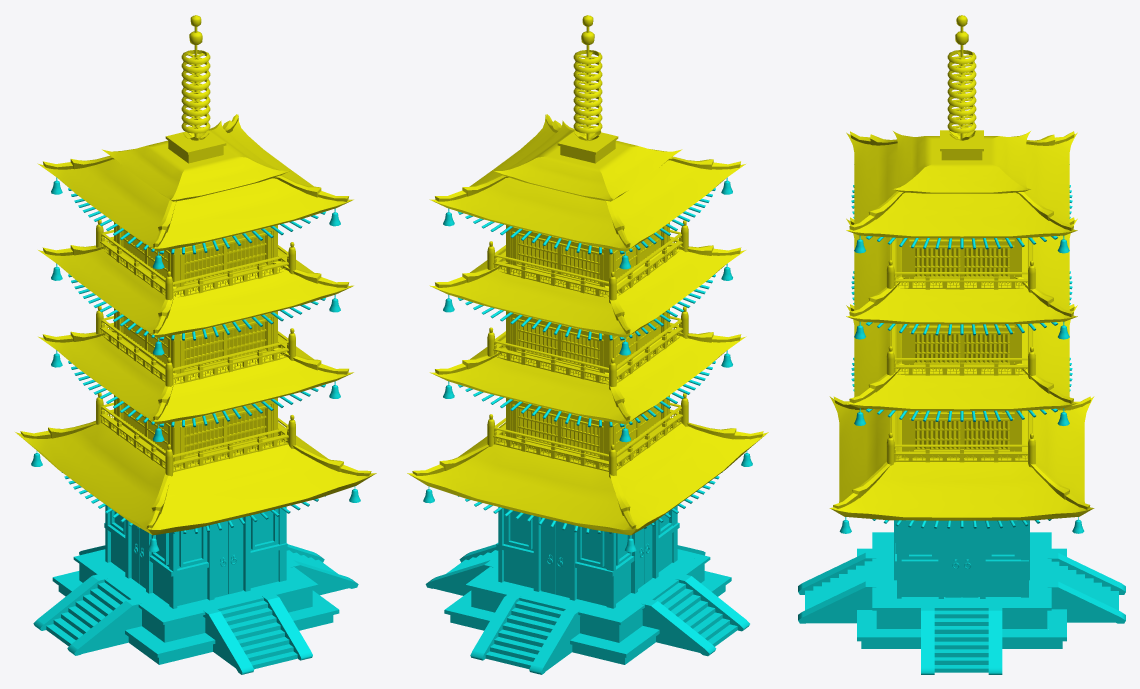
The model's file is lp_short pagoda.fbx.
3 views of the same model, side by side, from view 1: azimuth 30°, elevation 25°; view 2: azimuth 150°, elevation 25°; view 3: azimuth 270°, elevation 25° (orthographic).
Parts seen in each view (by area): view 1: group5_pCube147; view 2: group5_pCube147; view 3: group5_pCube147.
Part boxes in pixels (box(x1,y1,x2,y2)): group5_pCube147: box(15, 15, 376, 674); group5_pCube147: box(407, 15, 768, 674); group5_pCube147: box(798, 15, 1125, 674).
Bounding box in the file's own units: 20.63 × 41.12 × 20.63.
